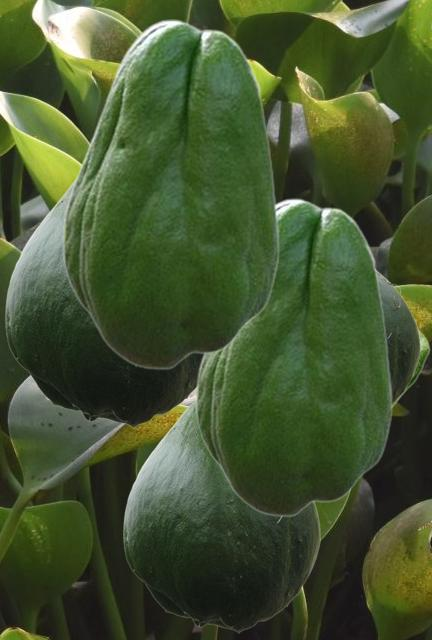sayote: (62, 19, 279, 369), (195, 198, 392, 516), (5, 181, 201, 427), (123, 402, 319, 632), (377, 270, 419, 403)
